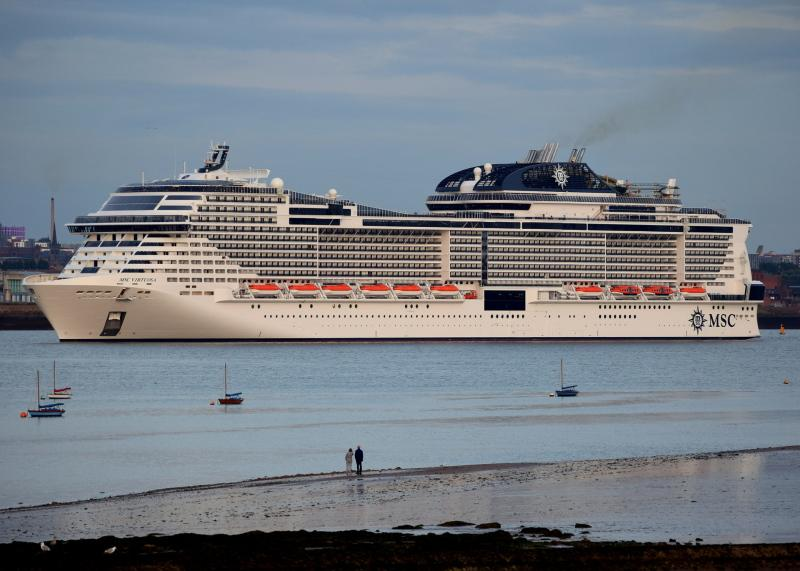Ship: (22, 143, 760, 343), (28, 372, 66, 419), (219, 364, 246, 407), (556, 357, 580, 398), (48, 362, 73, 400)
